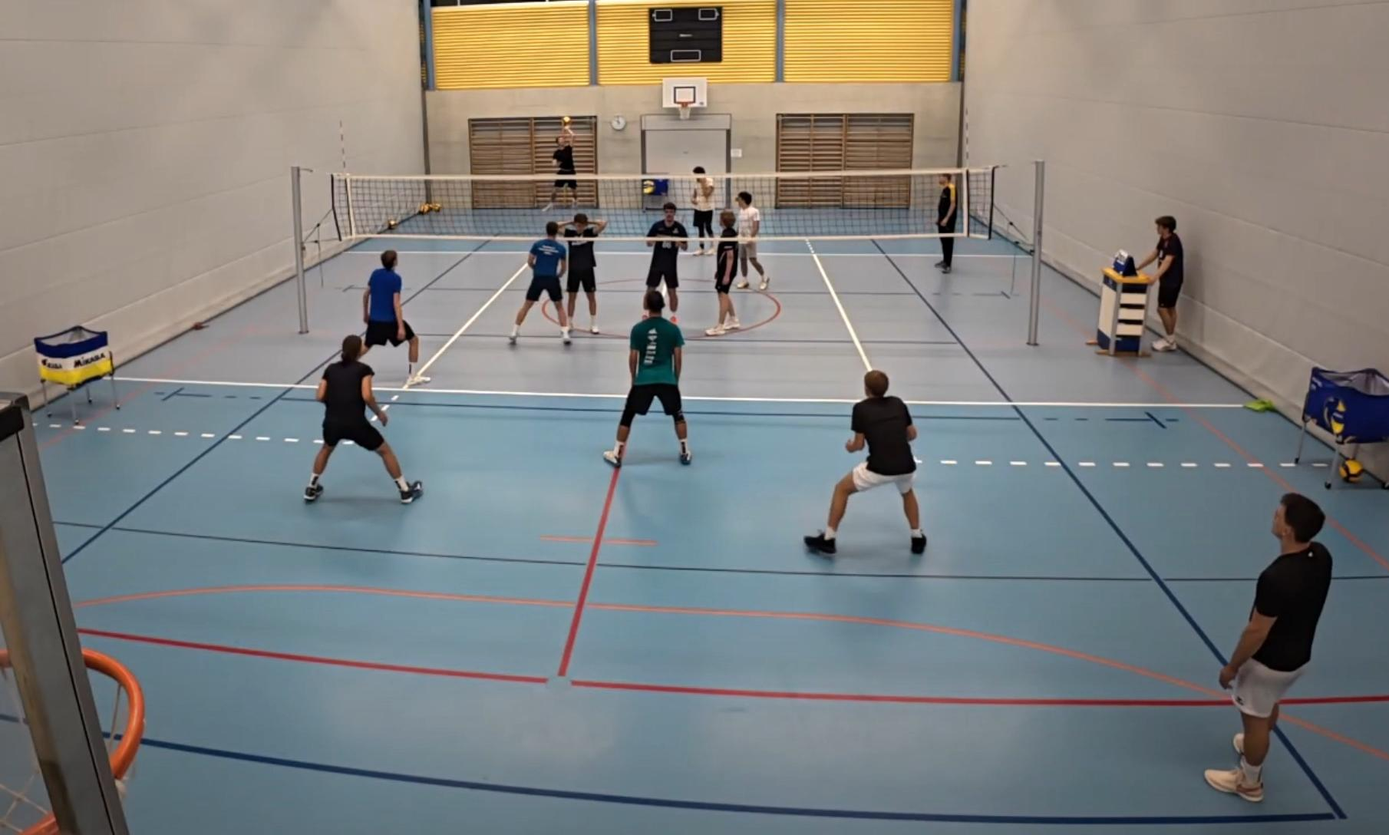battuta: (544, 113, 583, 219)
